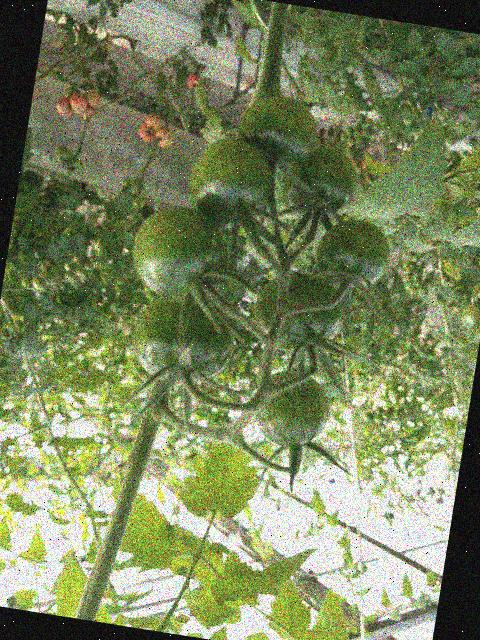l_green: (125, 199, 236, 308), (126, 289, 241, 392), (183, 131, 279, 234), (249, 265, 351, 359), (232, 89, 322, 176), (249, 365, 337, 452), (276, 140, 363, 226), (311, 213, 395, 293), (459, 298, 480, 329), (463, 338, 480, 371), (469, 313, 480, 343), (470, 279, 480, 305)
